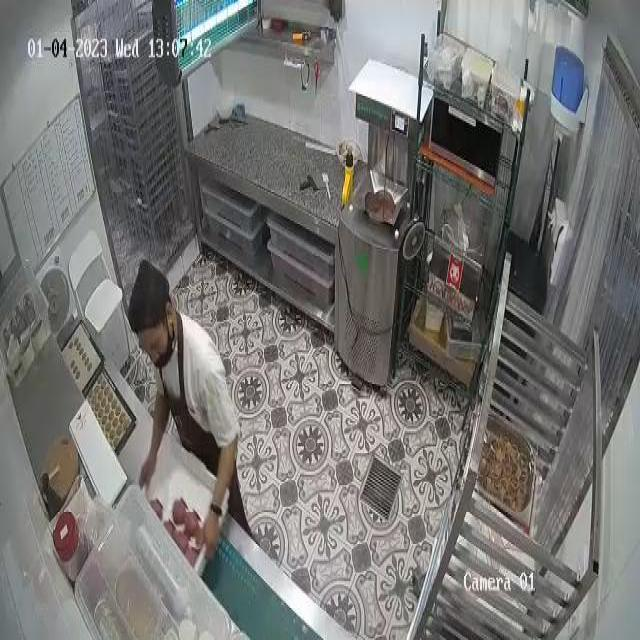hairnet: (132, 262, 169, 321)
